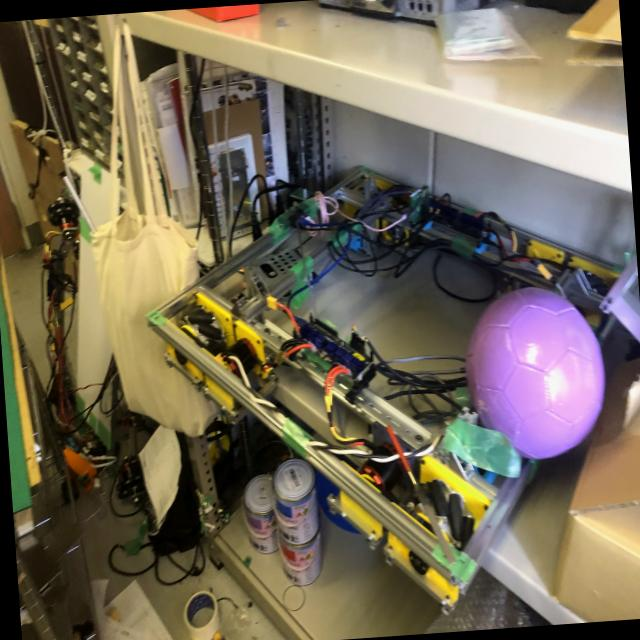purple_ball: (461, 282, 610, 462)
